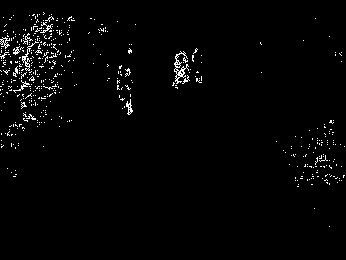person: (114, 61, 141, 118)
